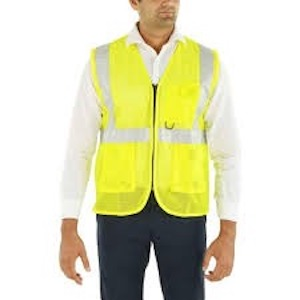vest: (92, 40, 219, 216)
